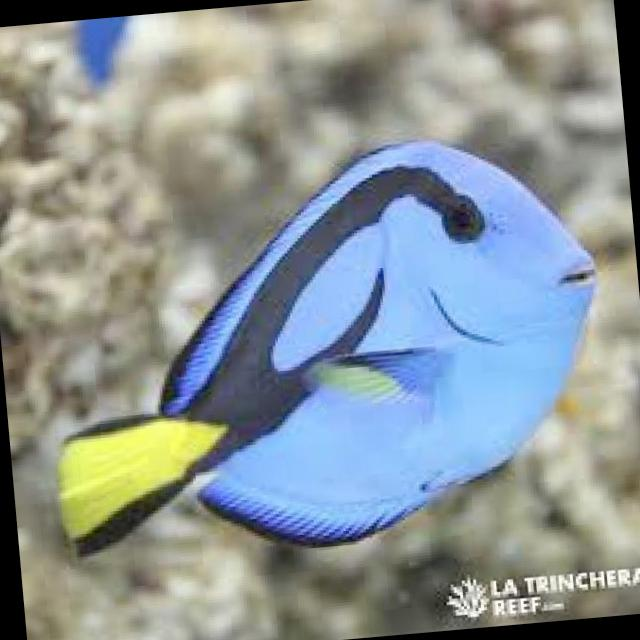TangFish: (23, 121, 616, 570)
